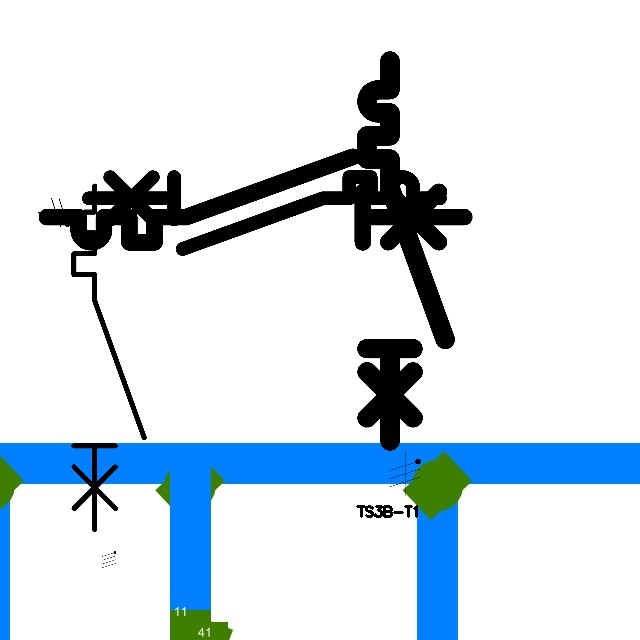interruptor_termomagnetico: (36, 146, 475, 253), (357, 51, 454, 450), (79, 168, 448, 258), (65, 177, 153, 538)
